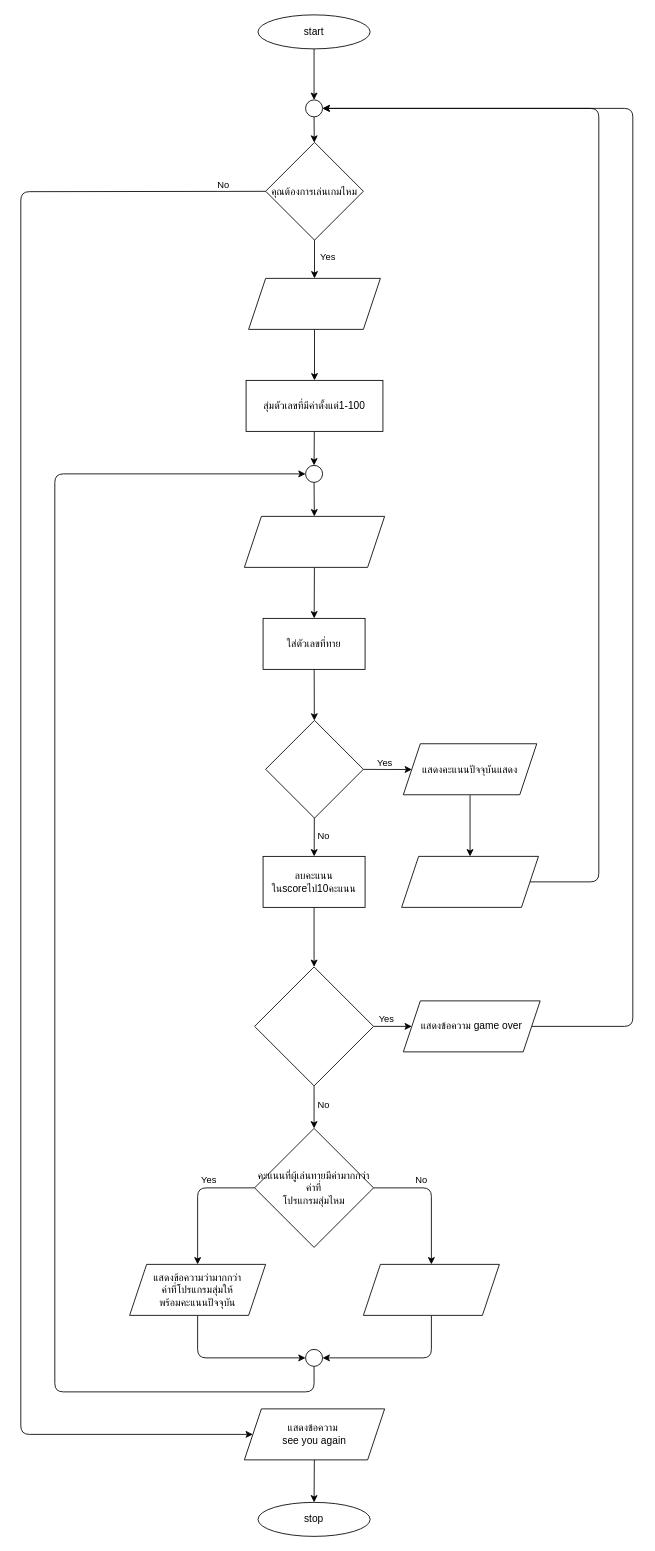
Image size: 655x1551. Some labels were removed from this diagram. The box of each missing label's shape, as (x1, y1, x2, y2) in pixels:
ข้อความ แสดงความยินดี: (401, 856, 538, 907)
คะแนนเหลือ0ใช่ไหม: (254, 966, 374, 1086)
ตัวเลขที่ทายถูกไหม: (265, 720, 363, 818)
แสดงข้อความว่าน้อยกว่า ค่าที่โปรแกรมสุ่มให้ พร้อมคะแนนปัจจุบัน: (363, 1264, 499, 1315)
แสดงข้อความให้ทายตัวเลข: (244, 516, 385, 567)
แสดงคะแนนscore = 100: (248, 278, 380, 329)
